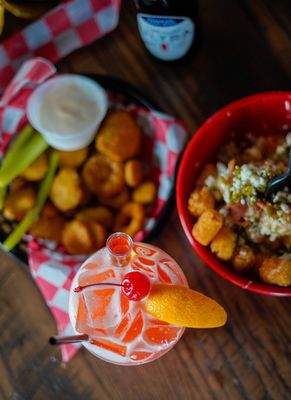sushi: (174, 89, 291, 309), (26, 73, 109, 154)
